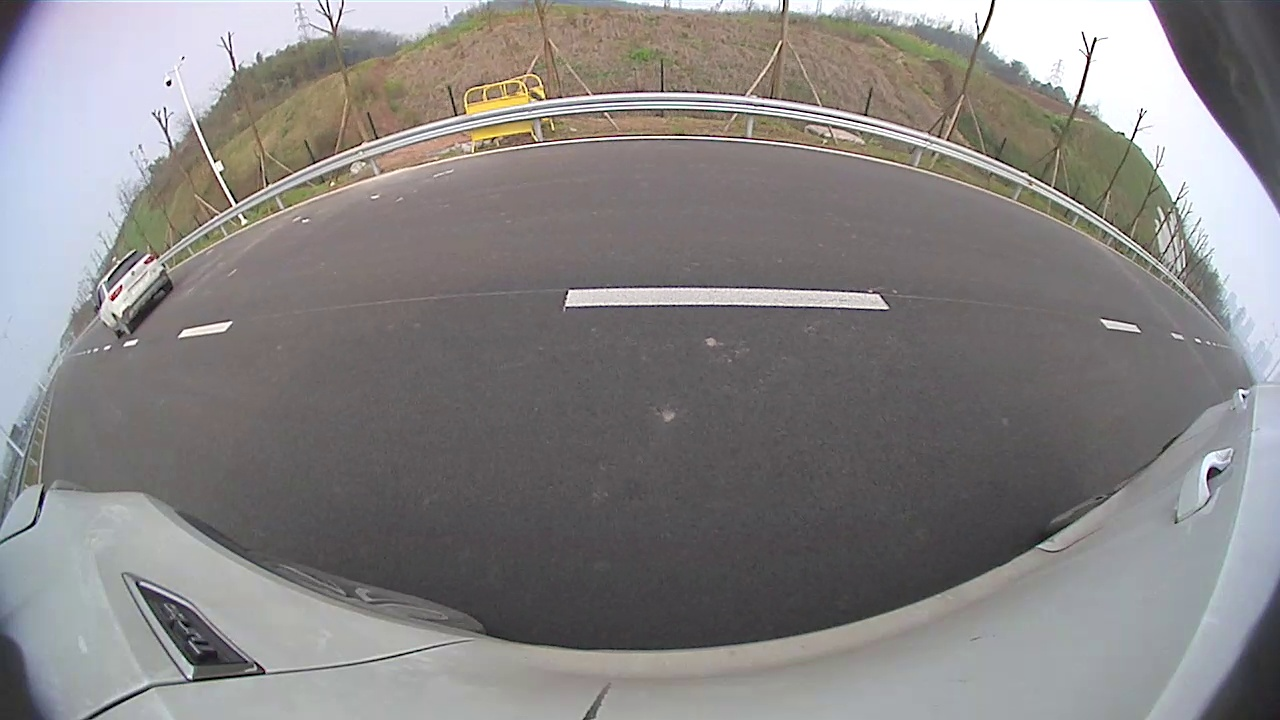car: (140, 75, 464, 281)
front: (282, 181, 347, 256)
rear: (162, 236, 202, 281)
